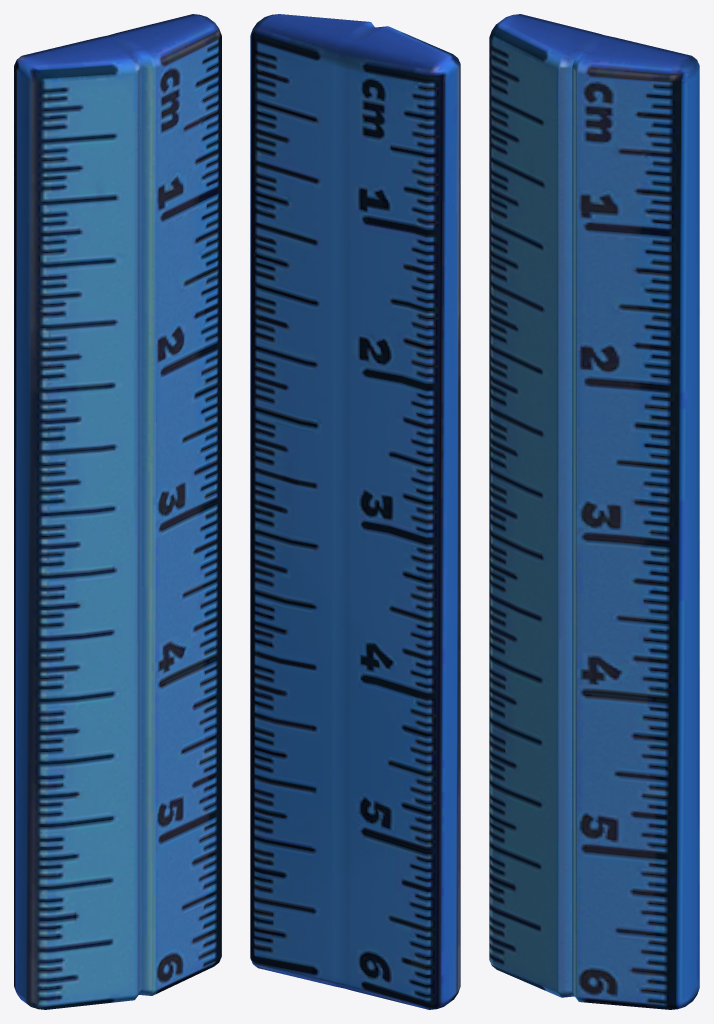
The model's file is 0-ruler_blue.fbx.
3 renders of one model, left to right at view 1: azimuth 30°, elevation 25°; view 2: azimuth 150°, elevation 25°; view 3: azimuth 330°, elevation 25°, orthographic.
Visible parts, largest first — view 1: 0-ruler_blue; view 2: 0-ruler_blue; view 3: 0-ruler_blue.
Boxes of the visible parts, x1,y1,x2,y2 form: 0-ruler_blue: (14, 14, 221, 1009); 0-ruler_blue: (250, 14, 460, 1009); 0-ruler_blue: (489, 14, 699, 1009).
Size of the model in its own units: 21.04 by 98.35 by 7.85.
